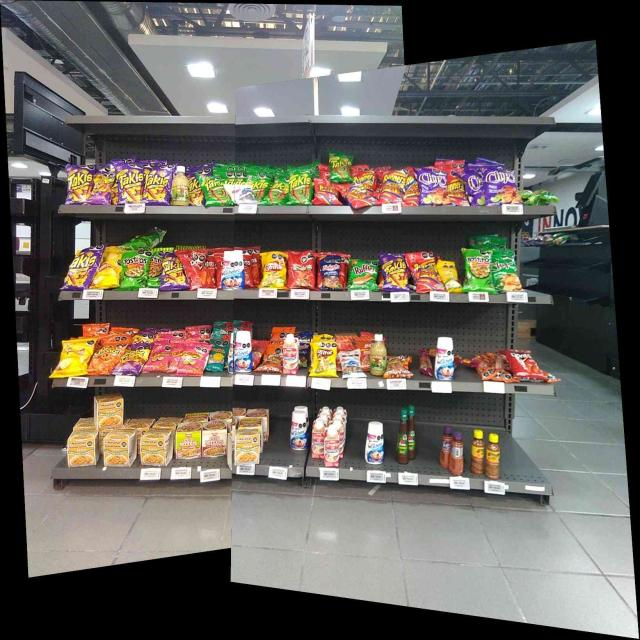bitzHabanero: (419, 348, 433, 376)
bokadosCacahuates: (323, 257, 340, 289)
botaneraChilito: (486, 432, 499, 480), (472, 431, 484, 474)
cheetosFlaminHot: (123, 344, 144, 376), (94, 173, 113, 204)
cheetosOriginal: (94, 343, 120, 375)
chipsFuego: (486, 168, 517, 204), (422, 169, 446, 206), (468, 168, 484, 205)
chipsJalapeno: (494, 252, 516, 292)
churrumais: (181, 345, 203, 377), (150, 342, 168, 373)
delPrimoSalsa: (370, 334, 385, 376), (172, 166, 188, 205)
doritosNacho: (187, 251, 214, 289), (509, 350, 532, 377)
fritosLimon: (262, 252, 286, 288), (313, 341, 335, 377)
leoCacahuates: (340, 352, 360, 378), (232, 183, 252, 205)
leoMix: (388, 356, 412, 379), (265, 346, 281, 374)
maruchanPollo: (141, 428, 170, 467), (68, 430, 96, 465), (105, 431, 131, 467), (94, 396, 123, 428), (236, 430, 259, 464)
nestleCarnation: (326, 429, 340, 467), (284, 335, 296, 375), (312, 421, 324, 459)
nestleLechera: (436, 336, 454, 379), (366, 422, 384, 464), (290, 410, 308, 451), (235, 332, 251, 372), (222, 252, 233, 290), (235, 251, 244, 290)
nissinCamaron: (177, 423, 202, 459)
nissinRes: (204, 421, 226, 458)
rancheritos: (288, 252, 316, 288)
rufflesQueso: (350, 258, 377, 290)
runners: (409, 254, 437, 292), (380, 171, 404, 203), (345, 189, 378, 208), (353, 169, 376, 188), (449, 179, 465, 205), (316, 184, 334, 205), (406, 176, 418, 206)
sabritasOriginal: (61, 341, 87, 375), (99, 248, 120, 287)
salsaBufalo: (397, 408, 409, 464)
semillasCalabaza: (440, 261, 458, 292)
semillasGirasol: (209, 340, 224, 372)
tajinDulce: (452, 431, 463, 475), (440, 428, 450, 468)
takisFuego: (68, 252, 96, 289), (118, 165, 144, 204), (382, 253, 406, 290), (68, 165, 88, 203), (147, 169, 169, 203), (164, 253, 179, 289), (190, 178, 201, 205)
takisOriginal: (205, 176, 228, 206), (291, 174, 311, 205), (271, 176, 290, 204), (330, 156, 350, 181), (255, 175, 268, 205)
tostitos: (464, 248, 492, 292), (123, 250, 147, 288), (150, 254, 162, 288)
